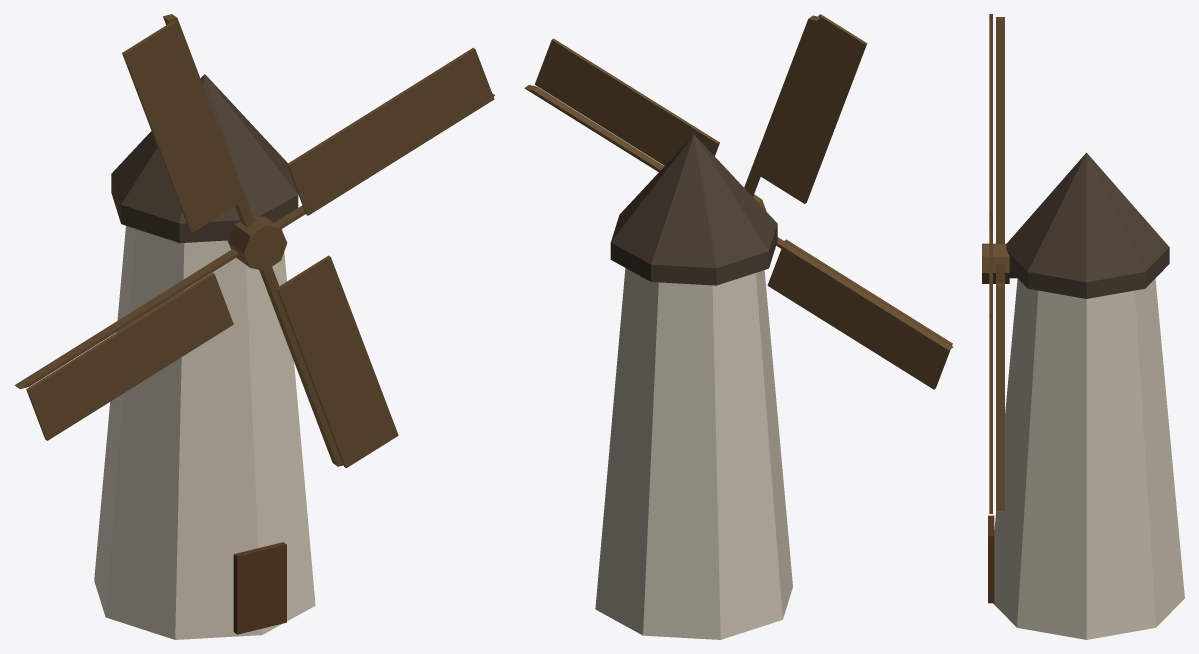
Rendered from windmill.glb.
3 renders of one model, left to right at view 1: azimuth 30°, elevation 25°; view 2: azimuth 150°, elevation 25°; view 3: azimuth 270°, elevation 25°, orthographic. The views are drawn at different scales.
Visible parts, largest first — view 1: Tower, Sails; view 2: Tower, Sails; view 3: Tower, Sails.
Part boxes in pixels (x1,y1,x2,y2): Tower: (94,74,315,639); Sails: (14,14,494,468); Tower: (595,134,792,639); Sails: (524,14,953,389); Tower: (988,152,1184,639); Sails: (982,14,1009,513).
Size of the model in its own units: 15.34 by 19.52 by 6.6.
